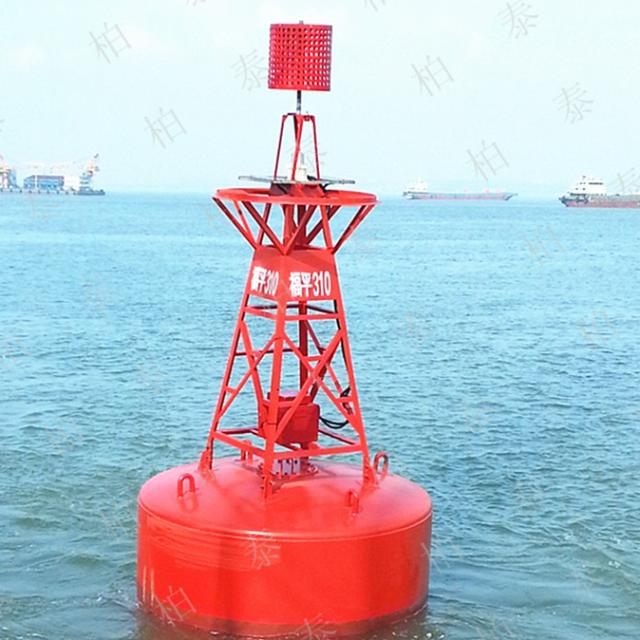buoy: (124, 15, 433, 625)
